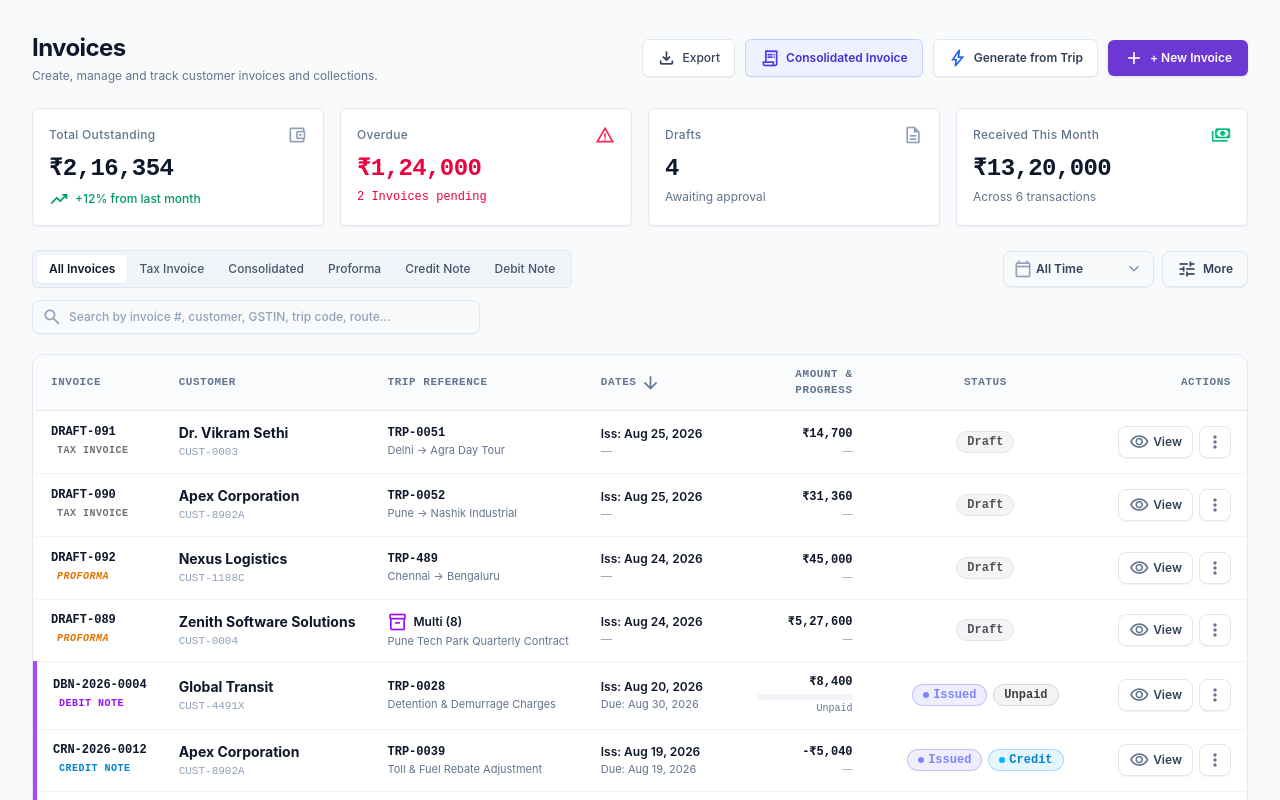
Test: InvoiceList Page › opens the + New Invoice modal when button is clicked
Click the button "+ New Invoice" at (1178, 58), box [1108, 40, 1248, 76]
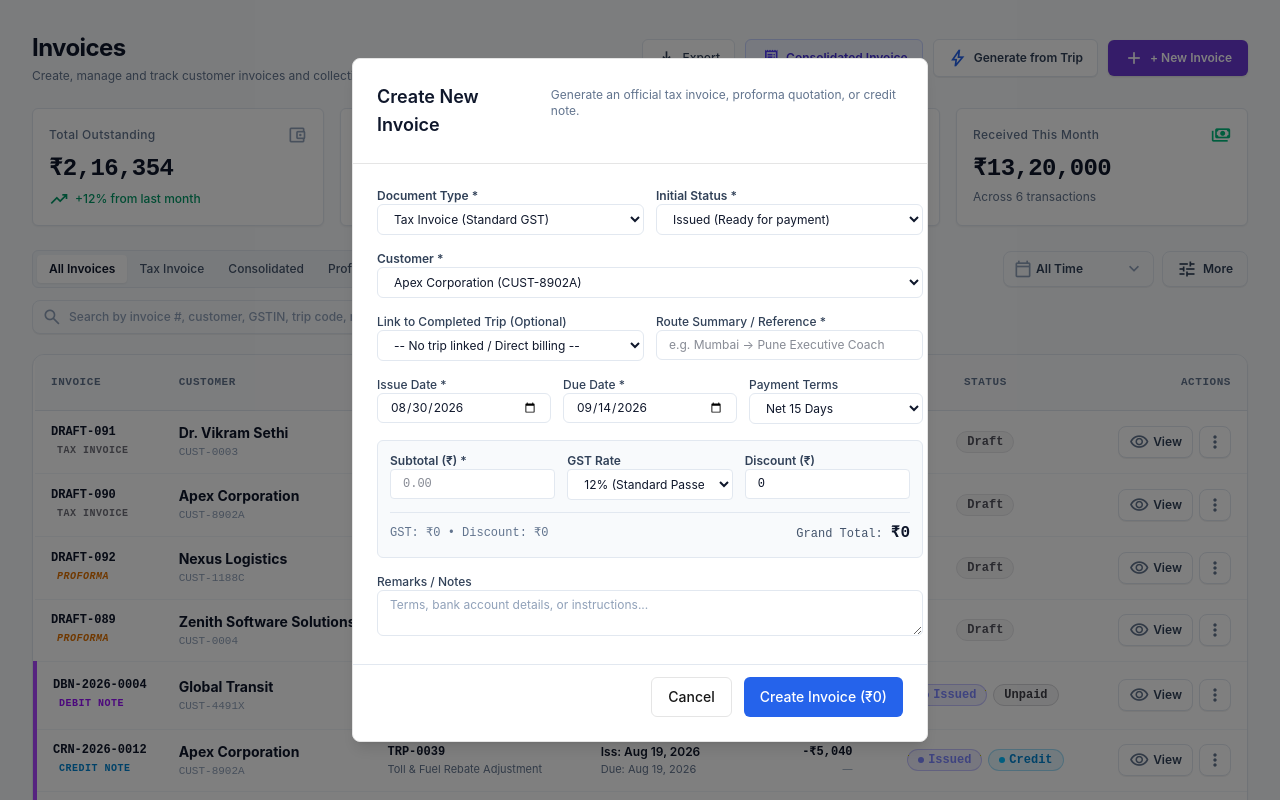
Expected: the heading "Create New Invoice" is shown, [377, 86, 479, 135]
Expected: the text "Document Type *" is shown, [377, 188, 478, 203]
